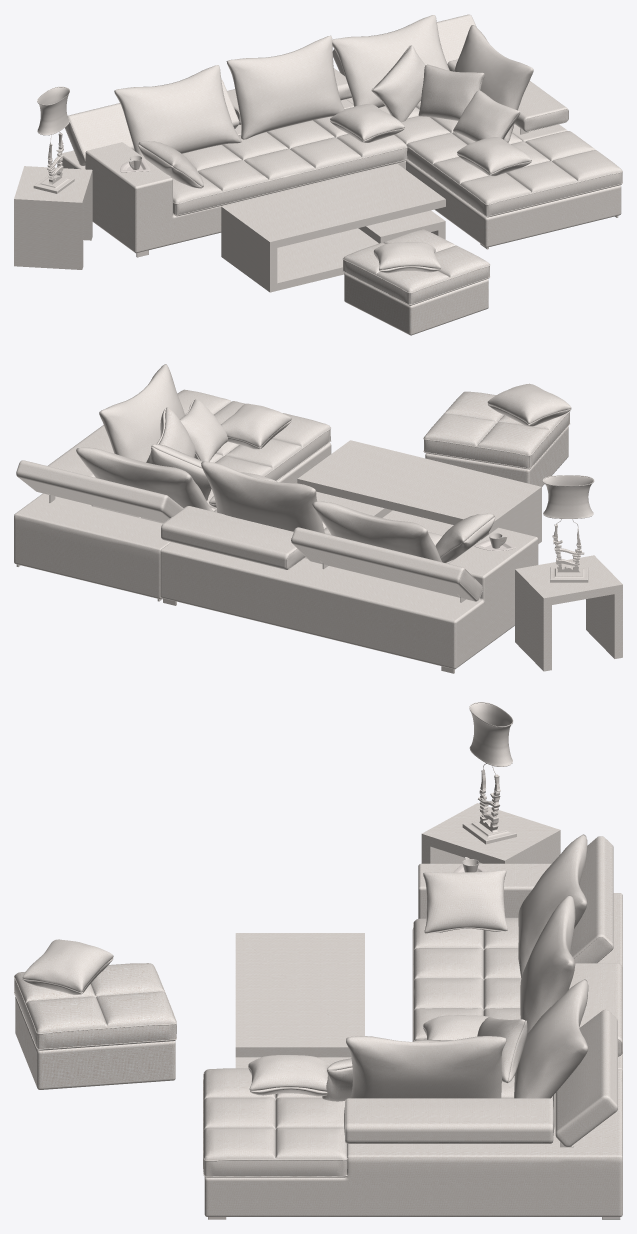
File: sofa.glb
The picture shows the model from 3 angles, top to bottom: view 1: azimuth 30°, elevation 25°; view 2: azimuth 150°, elevation 25°; view 3: azimuth 270°, elevation 25°; orthographic projection. The views are drawn at different scales.
Visible parts, largest first — view 1: Object_11, Object_7, Object_6, Object_8, Object_4, Object_13, Object_9, Object_14, Object_5, Object_16, Object_22; view 2: Object_7, Object_11, Object_4, Object_6, Object_13, Object_8, Object_14, Object_22, Object_16, Object_10; view 3: Object_7, Object_11, Object_13, Object_4, Object_8, Object_6, Object_14, Object_9, Object_22, Object_16.
Boxes of the visible parts, x1,y1,x2,y2 form: Object_11: (114,15,533,273); Object_7: (61,14,621,335); Object_6: (14,128,528,292); Object_8: (34,87,618,292); Object_4: (137,101,621,304); Object_13: (168,141,622,292); Object_9: (49,116,522,185); Object_14: (37,87,621,304); Object_5: (175,151,622,305); Object_16: (65,68,622,305); Object_22: (37,86,69,134); Object_7: (14,425,568,669); Object_11: (76,364,571,562); Object_4: (18,440,614,673); Object_6: (49,487,622,671); Object_13: (177,389,568,602); Object_8: (16,401,593,673); Object_14: (256,412,593,518); Object_22: (542,475,594,518); Object_16: (161,411,570,600); Object_10: (553,525,583,575); Object_7: (15,836,622,1216); Object_11: (22,834,588,1101); Object_13: (14,917,518,1160); Object_4: (36,846,620,1219); Object_8: (15,702,571,1160); Object_6: (208,803,619,1219); Object_14: (14,702,512,1176); Object_9: (414,800,520,1040); Object_22: (469,702,513,765); Object_16: (14,922,621,1176).
Bounding box in the file's own units: 168 × 49.17 × 131.
1 material, 1 textured.
